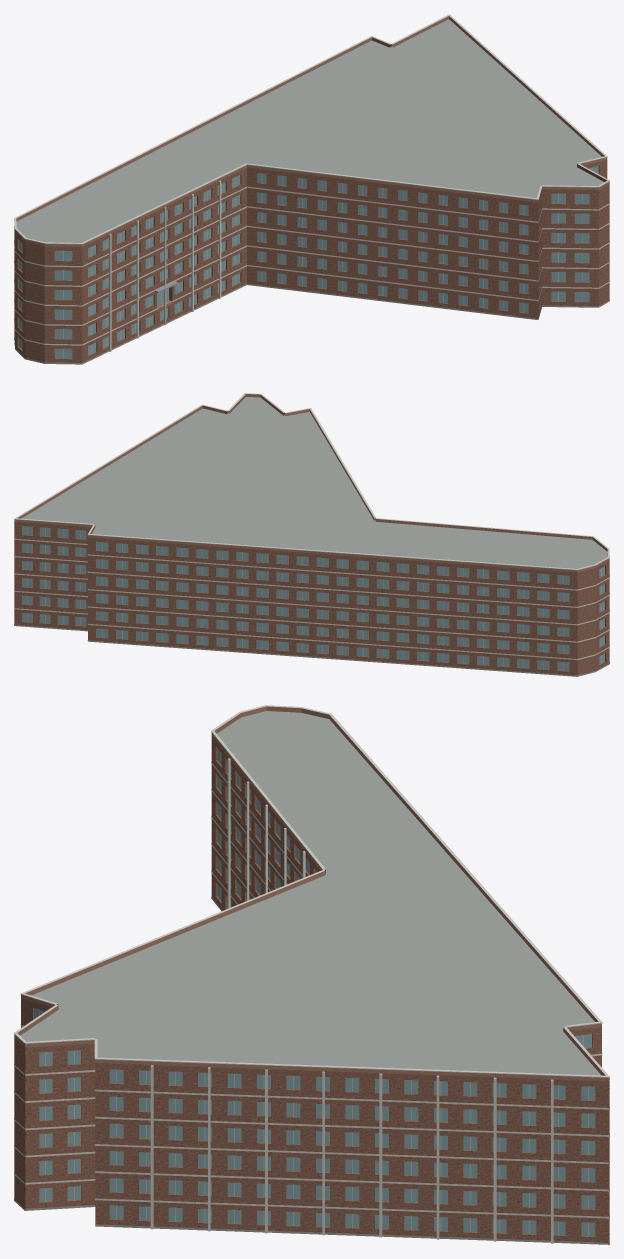
The picture shows the model from 3 angles, top to bottom: view 1: azimuth 30°, elevation 25°; view 2: azimuth 150°, elevation 25°; view 3: azimuth 270°, elevation 25°; orthographic projection. The views are drawn at different scales.
Visible parts, largest first — view 1: w5__wall, w5__roof, w5__glass, w5__trim, w5__parapet, w5__frame, w5__base; view 2: w5__wall, w5__roof, w5__glass, w5__trim, w5__parapet, w5__frame, w5__base; view 3: w5__roof, w5__wall, w5__glass, w5__trim, w5__parapet, w5__frame, w5__base.
Part boxes in pixels (x1=…): w5__wall: x1=14, y1=160, x2=609, y2=362; w5__roof: x1=16, y1=19, x2=603, y2=242; w5__glass: x1=19, y1=166, x2=598, y2=358; w5__trim: x1=14, y1=14, x2=609, y2=351; w5__parapet: x1=15, y1=16, x2=609, y2=246; w5__frame: x1=21, y1=168, x2=592, y2=358; w5__base: x1=14, y1=283, x2=609, y2=364; w5__wall: x1=14, y1=521, x2=609, y2=675; w5__roof: x1=22, y1=397, x2=607, y2=568; w5__glass: x1=22, y1=526, x2=604, y2=671; w5__trim: x1=14, y1=393, x2=609, y2=659; w5__parapet: x1=14, y1=394, x2=609, y2=572; w5__frame: x1=27, y1=526, x2=601, y2=670; w5__base: x1=14, y1=624, x2=609, y2=676; w5__roof: x1=20, y1=711, x2=601, y2=1075; w5__wall: x1=14, y1=736, x2=609, y2=1242; w5__glass: x1=34, y1=748, x2=595, y2=1236; w5__trim: x1=14, y1=705, x2=609, y2=1243; w5__parapet: x1=14, y1=706, x2=609, y2=1081; w5__frame: x1=39, y1=752, x2=588, y2=1236; w5__base: x1=14, y1=896, x2=609, y2=1244.
Size of the model in its own units: 106 by 22.22 by 71.45.
10 materials, 2 textured.
